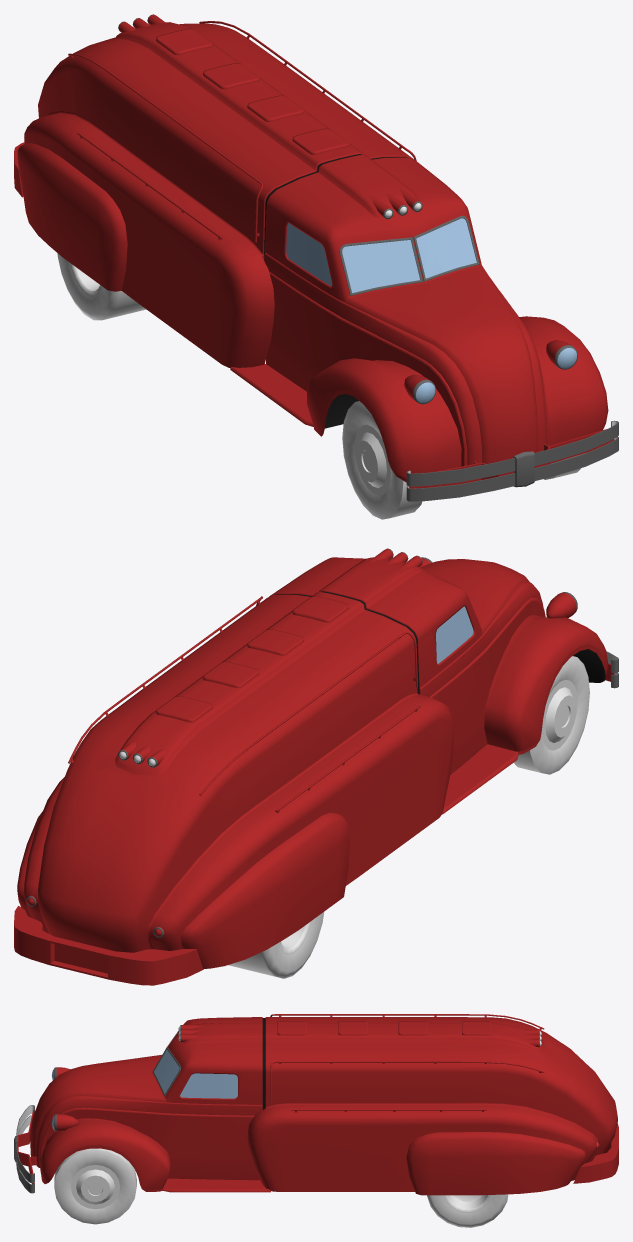
Rendered from dodge-airflow-11-low.glb.
3 views of the same model, one above another, from view 1: azimuth 30°, elevation 25°; view 2: azimuth 150°, elevation 25°; view 3: azimuth 270°, elevation 25° (orthographic). The views are drawn at different scales.
Parts seen in each view (by area): view 1: Dodge_karoserie, Pred_naprava, Zad_naprava; view 2: Dodge_karoserie, Pred_naprava, Zad_naprava; view 3: Dodge_karoserie, Pred_naprava, Zad_naprava.
Part boxes in pixels (x1,y1,x2,y2): Dodge_karoserie: [14, 14, 618, 501]; Pred_naprava: [342, 401, 585, 519]; Zad_naprava: [57, 253, 146, 320]; Dodge_karoserie: [14, 548, 618, 985]; Pred_naprava: [514, 656, 589, 774]; Zad_naprava: [228, 912, 323, 978]; Dodge_karoserie: [14, 1014, 618, 1195]; Pred_naprava: [54, 1148, 136, 1224]; Zad_naprava: [427, 1194, 508, 1227].
Bounding box in the file's own units: 2.5 × 2.45 × 8.05.
